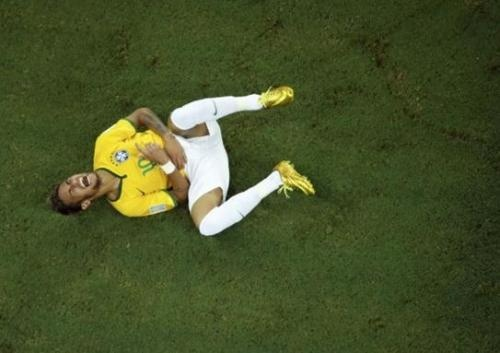falling: (37, 69, 319, 239)
